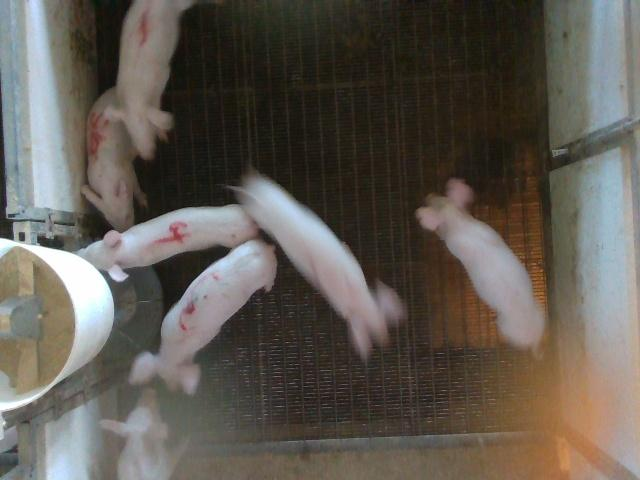pig-1: (106, 0, 194, 159)
pig-2: (234, 172, 405, 359)
pig-3: (129, 240, 274, 394)
pig-4: (76, 205, 259, 281)
pig-5: (81, 88, 148, 231)
